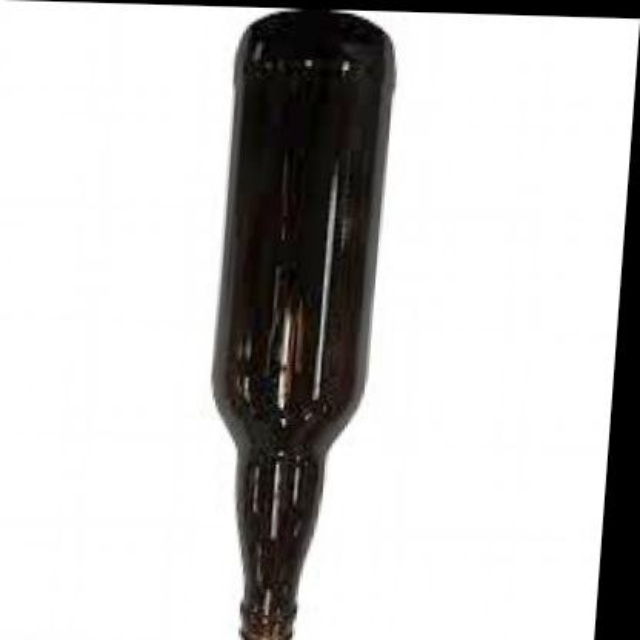trash: (212, 11, 394, 638)
